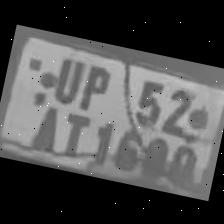1: (84, 113, 117, 164)
2: (156, 81, 196, 136)
5: (127, 72, 168, 124)
6: (109, 121, 147, 173)
A: (20, 96, 64, 152)
P: (74, 56, 114, 112)
T: (53, 104, 94, 157)
U: (46, 50, 86, 105)
